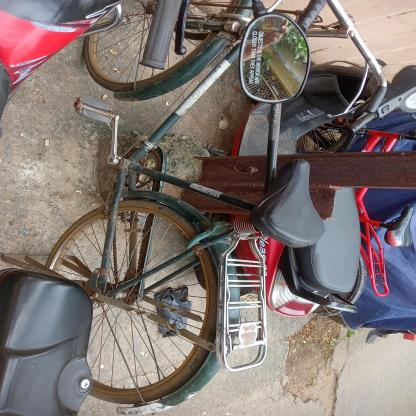bike: (18, 0, 333, 416)
